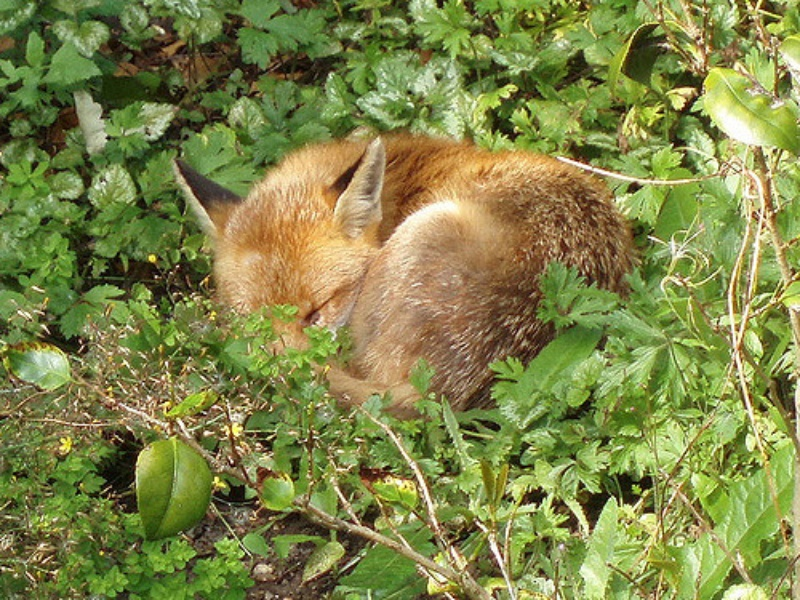fox: (168, 132, 649, 424)
